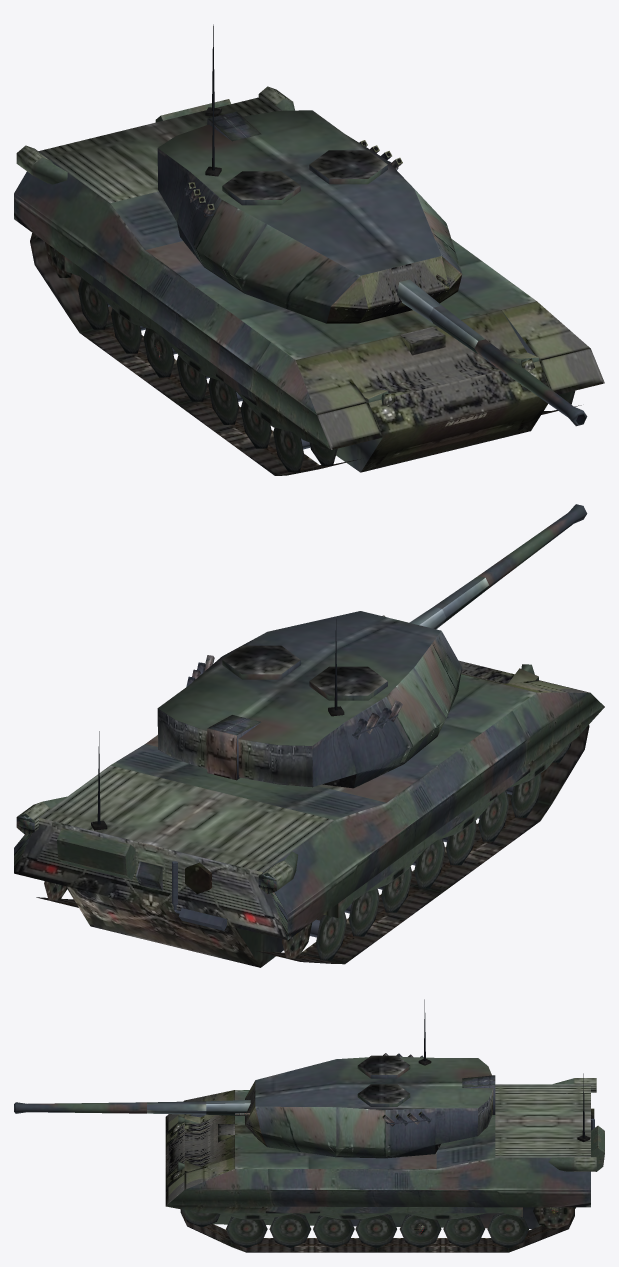
3 renders of one model, top to bottom at view 1: azimuth 30°, elevation 25°; view 2: azimuth 150°, elevation 25°; view 3: azimuth 270°, elevation 25°, orthographic. The views are drawn at different scales.
Visible parts, largest first — view 1: L1A5.Chassis, Turret, Tracks, TurretElevation, Barrel.Upper, Wheel.Lft03, Wheel.Lft05, Wheel.Lft06, Barrel.Lower, Wheel.Lft07, Barrel.Base, Wheel.Lft01 (+4 smaller); view 2: L1A5.Chassis, Turret, Tracks, Details.Rear, Barrel.Upper, Wheel.Lft07, Wheel.Lft08, Wheel.Lft04, Turret.Chaffs, Wheel.Lft01, Barrel.Lower, Wheel.Lft03 (+3 smaller); view 3: L1A5.Chassis, Turret, Tracks, Barrel.Upper, Wheel.Lft07, Wheel.Lft01, Wheel.Lft04, Wheel.Lft06, Wheel.Lft08, Wheel.Lft05, Wheel.Lft03, Barrel.Lower (+5 smaller).
Boxes of the visible parts, x1=… form: L1A5.Chassis: x1=14, y1=86, x2=604, y2=472; Turret: x1=157, y1=79, x2=462, y2=323; Tracks: x1=30, y1=233, x2=581, y2=475; TurretElevation: x1=359, y1=256, x2=450, y2=323; Barrel.Upper: x1=474, y1=339, x2=587, y2=426; Wheel.Lft03: x1=273, y1=427, x2=310, y2=472; Wheel.Lft05: x1=208, y1=377, x2=242, y2=424; Wheel.Lft06: x1=143, y1=328, x2=176, y2=377; Barrel.Lower: x1=429, y1=305, x2=484, y2=353; Wheel.Lft07: x1=78, y1=278, x2=110, y2=329; Barrel.Base: x1=397, y1=279, x2=441, y2=322; Wheel.Lft01: x1=240, y1=399, x2=271, y2=448; L1A5.Chassis: x1=14, y1=660, x2=604, y2=967; Turret: x1=157, y1=611, x2=462, y2=788; Tracks: x1=36, y1=725, x2=589, y2=964; Details.Rear: x1=57, y1=731, x2=226, y2=930; Barrel.Upper: x1=478, y1=504, x2=587, y2=590; Wheel.Lft07: x1=309, y1=911, x2=346, y2=960; Wheel.Lft08: x1=344, y1=888, x2=379, y2=936; Wheel.Lft04: x1=412, y1=838, x2=445, y2=888; Turret.Chaffs: x1=186, y1=655, x2=402, y2=739; Wheel.Lft01: x1=478, y1=790, x2=509, y2=841; Barrel.Lower: x1=433, y1=576, x2=488, y2=624; Wheel.Lft03: x1=506, y1=773, x2=541, y2=817; L1A5.Chassis: x1=165, y1=1078, x2=596, y2=1228; Turret: x1=245, y1=999, x2=495, y2=1158; Tracks: x1=180, y1=1207, x2=574, y2=1252; Barrel.Upper: x1=14, y1=1102, x2=146, y2=1113; Wheel.Lft07: x1=487, y1=1213, x2=528, y2=1247; Wheel.Lft01: x1=269, y1=1213, x2=311, y2=1247; Wheel.Lft04: x1=355, y1=1214, x2=396, y2=1247; Wheel.Lft06: x1=399, y1=1214, x2=441, y2=1247; Wheel.Lft08: x1=443, y1=1215, x2=484, y2=1247; Wheel.Lft05: x1=313, y1=1215, x2=354, y2=1247; Wheel.Lft03: x1=226, y1=1216, x2=267, y2=1247; Barrel.Lower: x1=147, y1=1101, x2=206, y2=1114.
Size of the model in its own units: 6 by 6.03 by 16.73.
